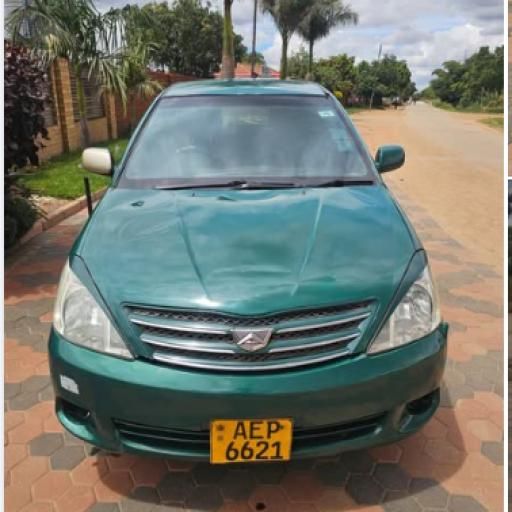number-plates: (209, 415, 291, 466)
